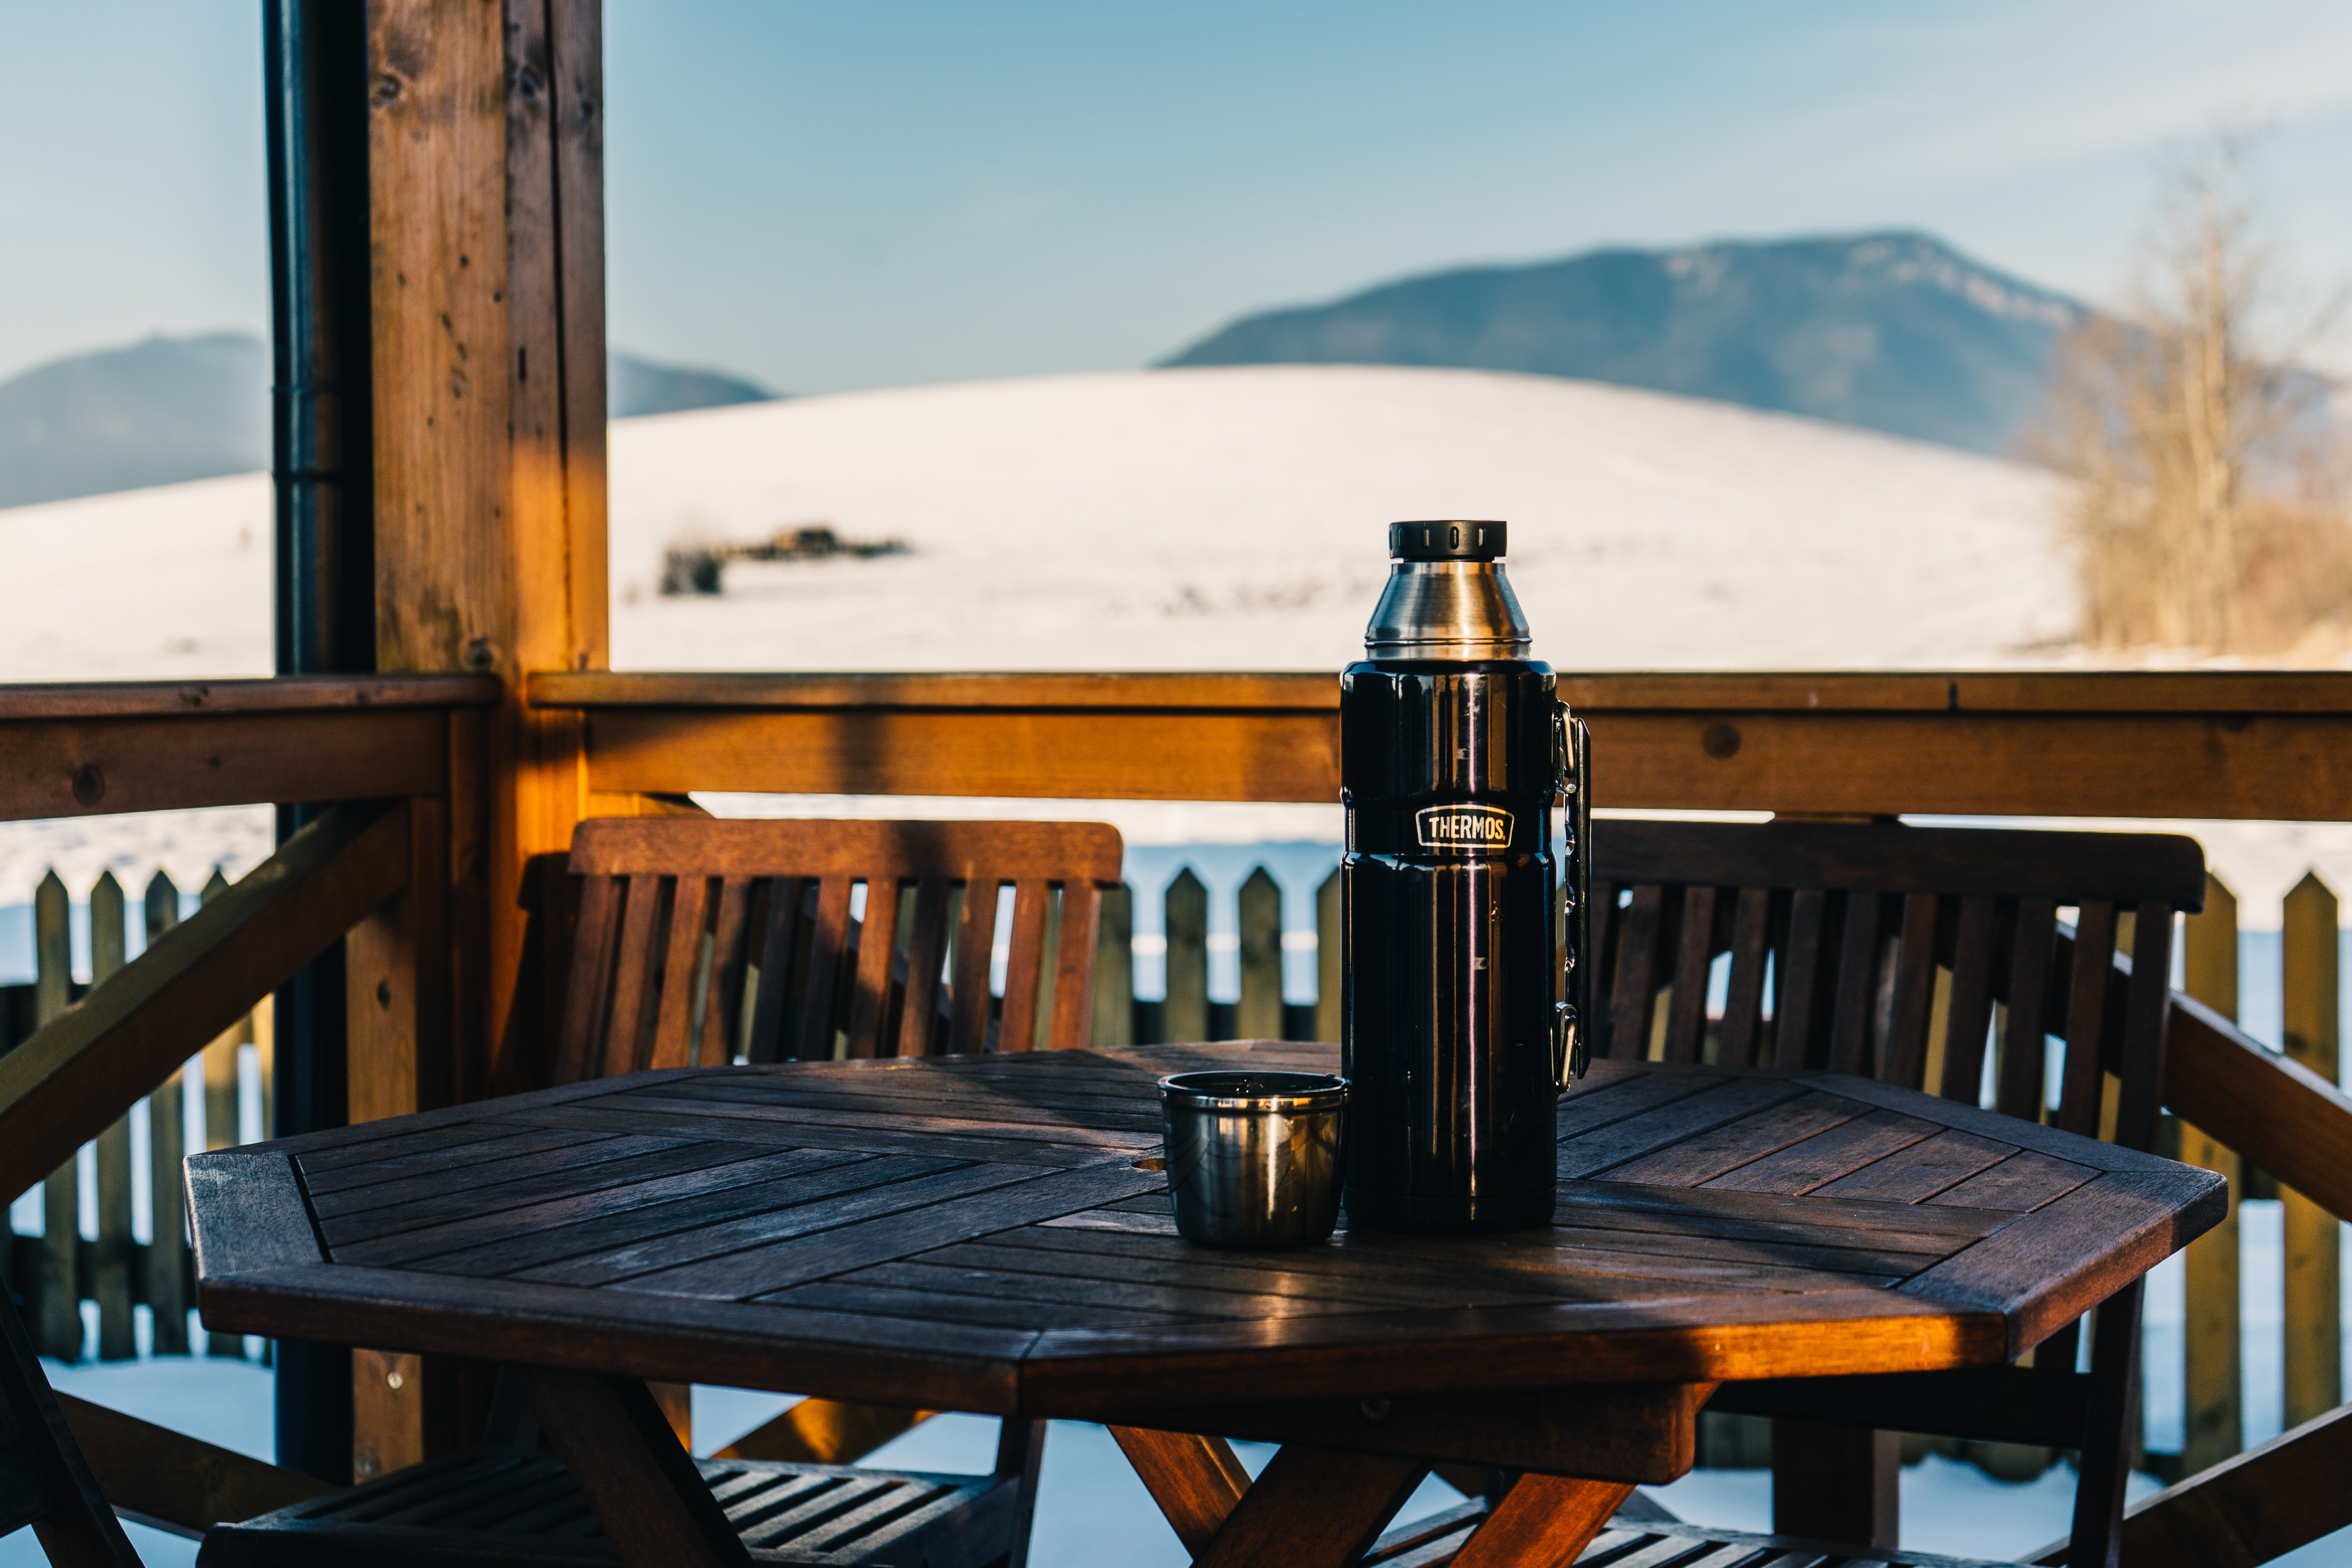Tumbler: (1328, 462, 1601, 1284)
